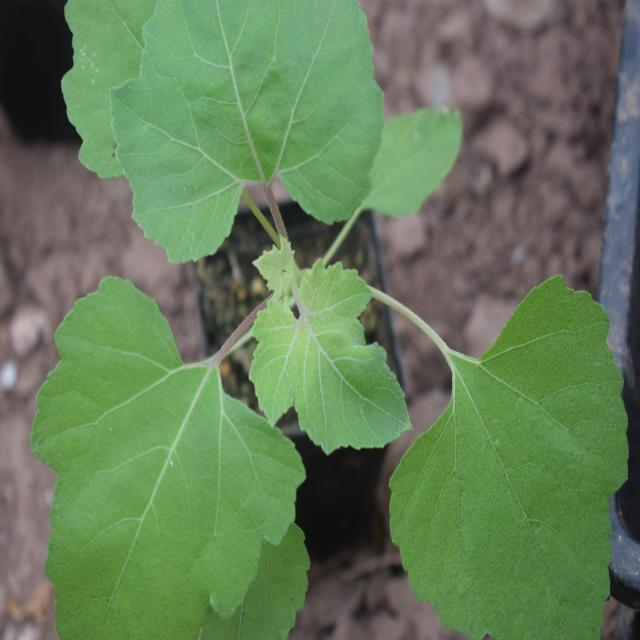cocklebur: (49, 0, 622, 628)
